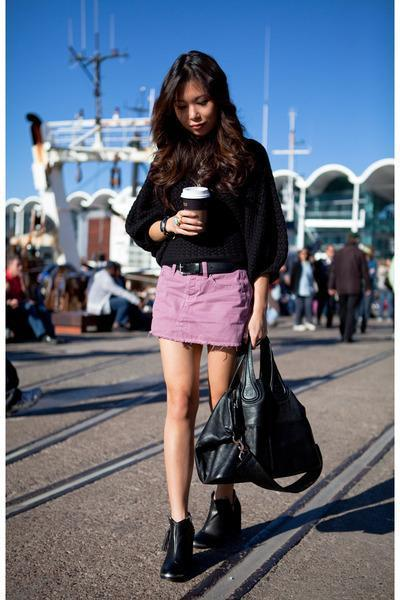bag: (189, 324, 321, 491)
jacket: (125, 159, 287, 292)
shoe: (165, 471, 236, 553)
skirt: (141, 261, 272, 347)
